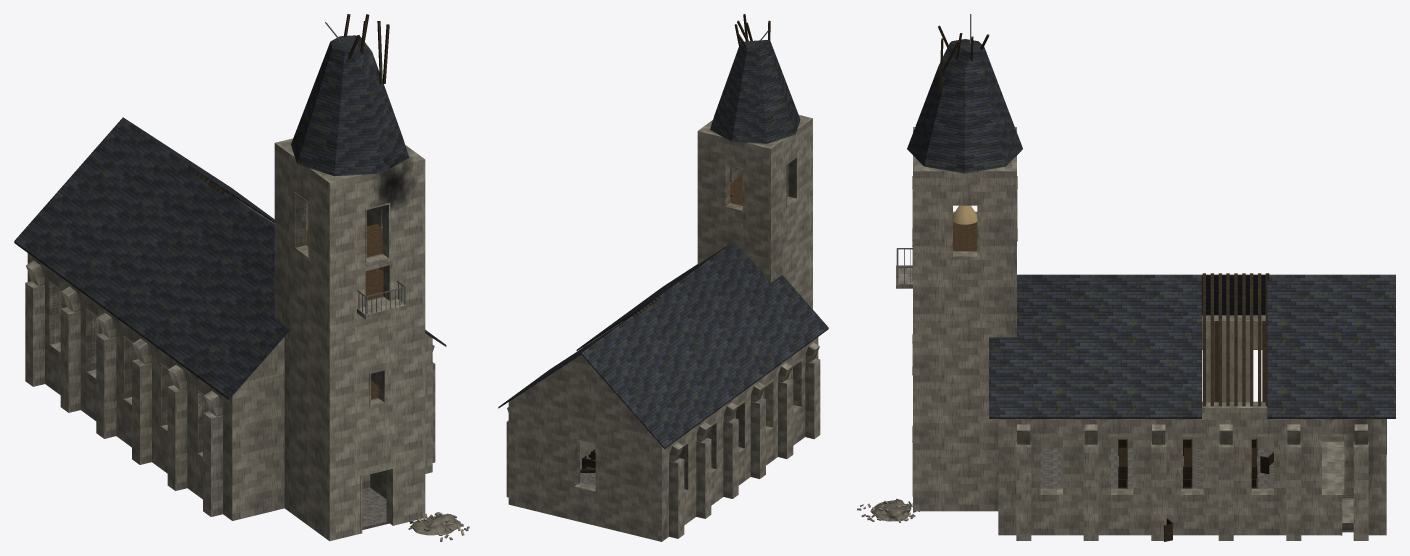
The model's file is church.glb.
The picture shows the model from 3 angles, left to right: view 1: azimuth 30°, elevation 25°; view 2: azimuth 150°, elevation 25°; view 3: azimuth 270°, elevation 25°; orthographic projection. The views are drawn at different scales.
Visible parts, largest first — view 1: Nave, BellTower; view 2: Nave, BellTower; view 3: Nave, BellTower.
Boxes of the visible parts, bbox=[...] form: Nave: bbox=[14, 117, 446, 520]; BellTower: bbox=[274, 14, 469, 541]; Nave: bbox=[498, 241, 828, 541]; BellTower: bbox=[697, 14, 812, 308]; Nave: bbox=[989, 273, 1395, 541]; BellTower: bbox=[857, 14, 1022, 522].
Size of the model in its own units: 13.22 by 27.52 by 28.74.
11 materials, 9 textured.
